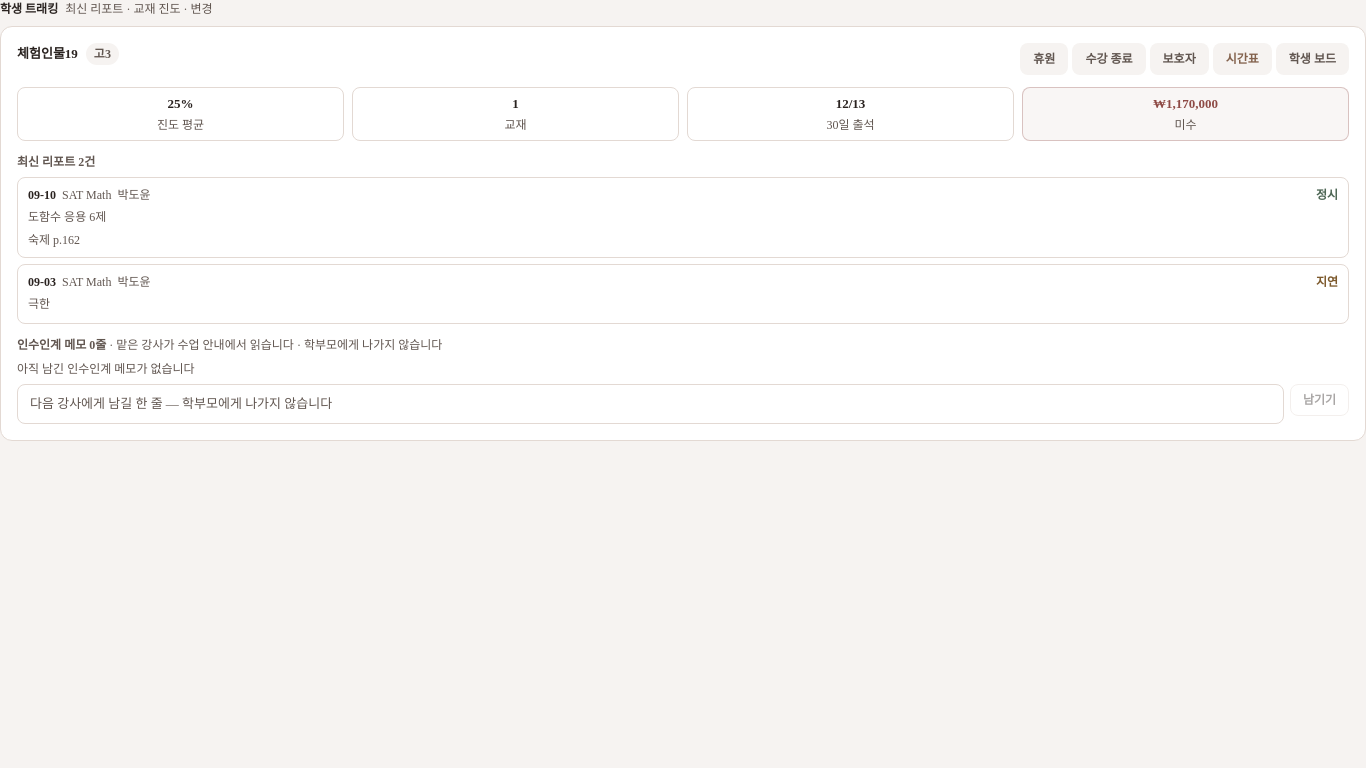
「수강 종료」는 회계 권한(canMoney)에만 선다 — 창은 회차 날짜를 마지막 수업일로 채우고 서버에 미리 본다
Click the button "수강 종료": (1109, 59) [1072,43,1146,75]
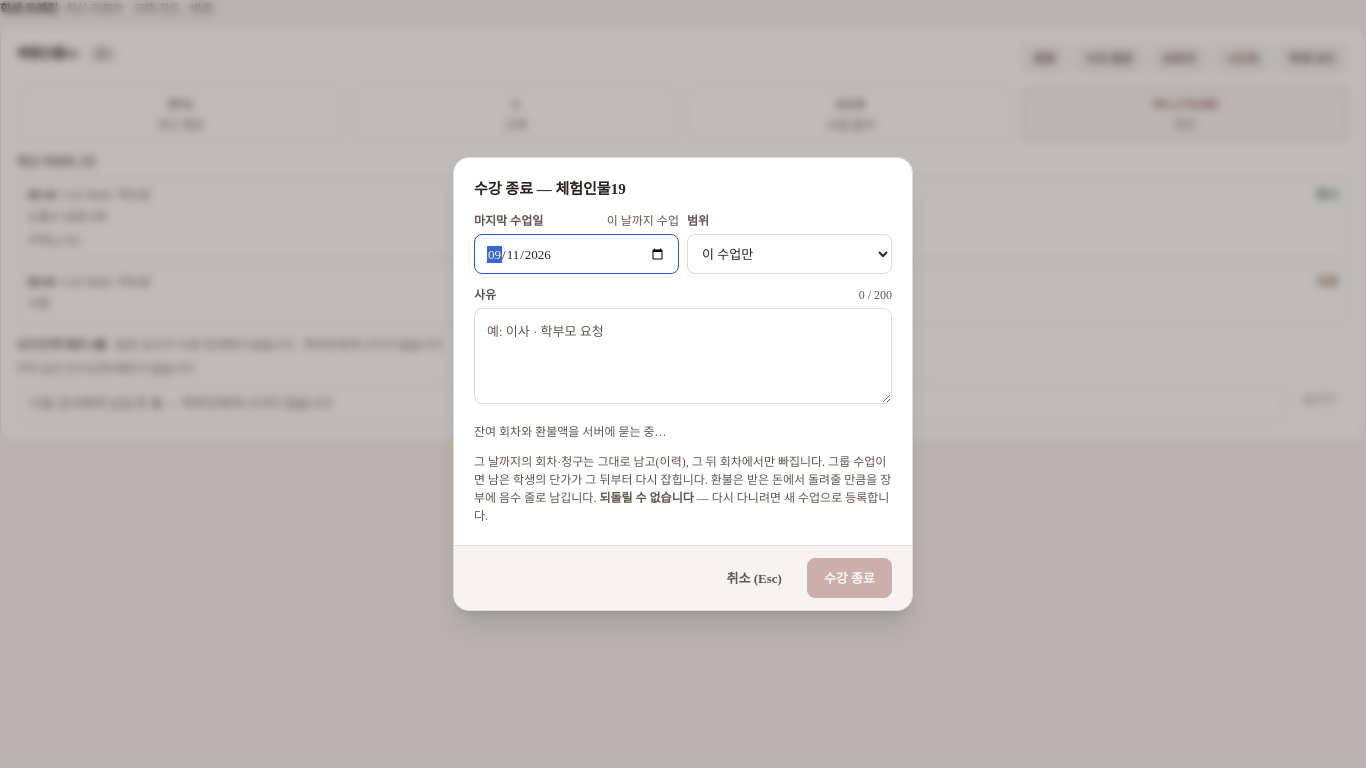
Now the date field labelled "마지막 수업일" holds "2026-09-11", box [474,234,679,274]
Now the button "수강 종료" is disabled, box [807,558,892,598]
